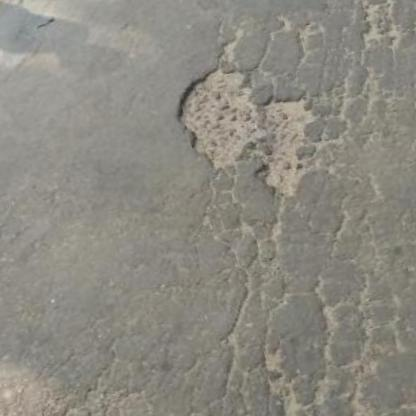pothole: (166, 39, 340, 221)
